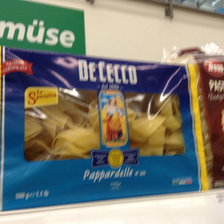pasta: (1, 45, 209, 211)
